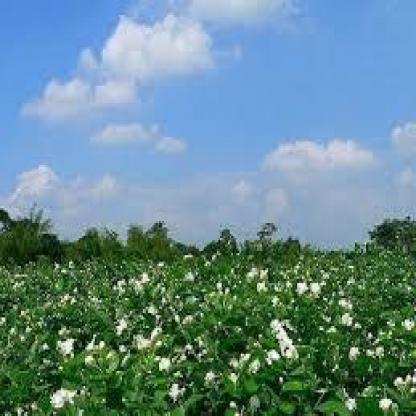Melati: (98, 303, 180, 387), (263, 256, 337, 299), (262, 303, 302, 368)
